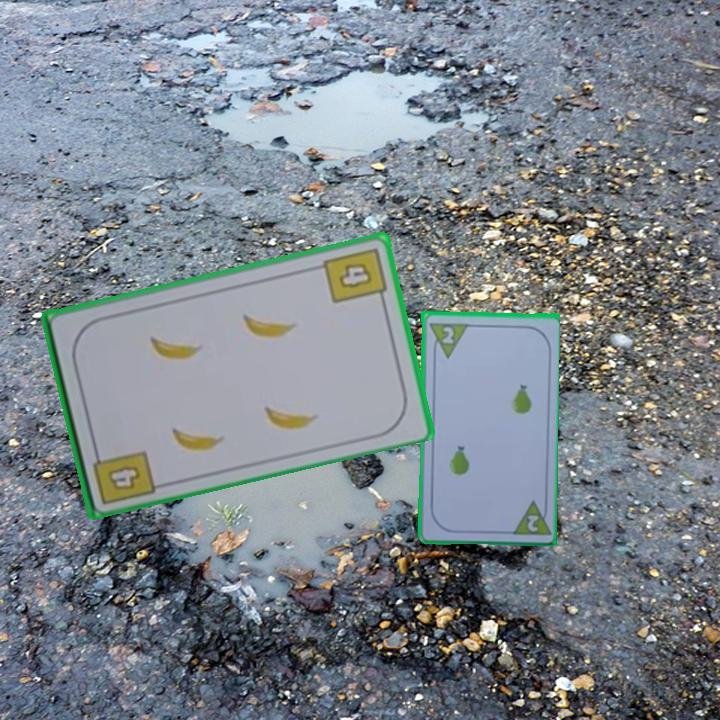2p: (507, 496, 552, 538), (438, 322, 456, 347)
4b: (89, 442, 158, 507), (319, 244, 389, 306)
